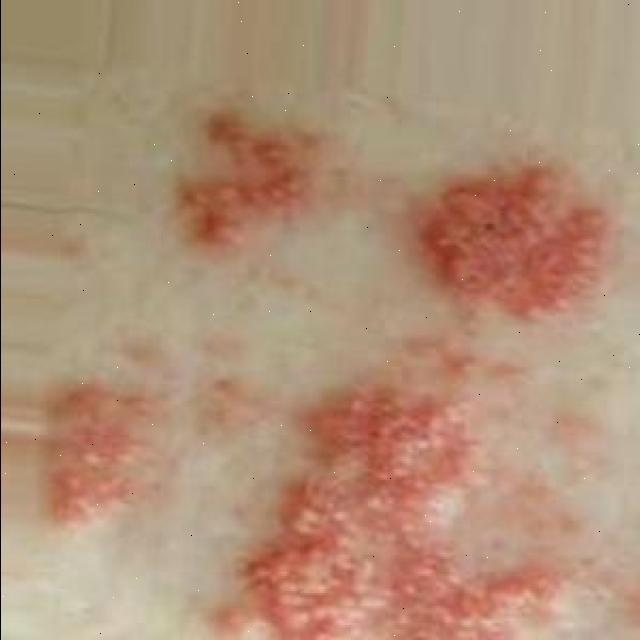Shingles: (211, 385, 568, 640), (417, 152, 617, 324), (176, 103, 320, 248), (46, 379, 161, 526)
